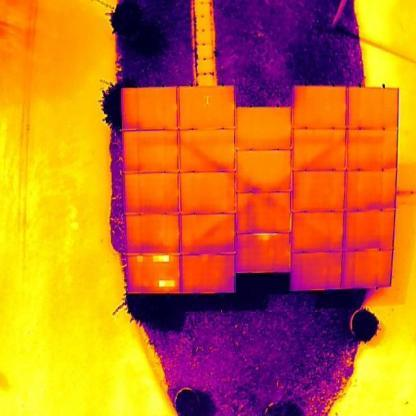anomaly: (154, 276, 177, 292), (151, 252, 171, 265), (136, 253, 144, 268)
